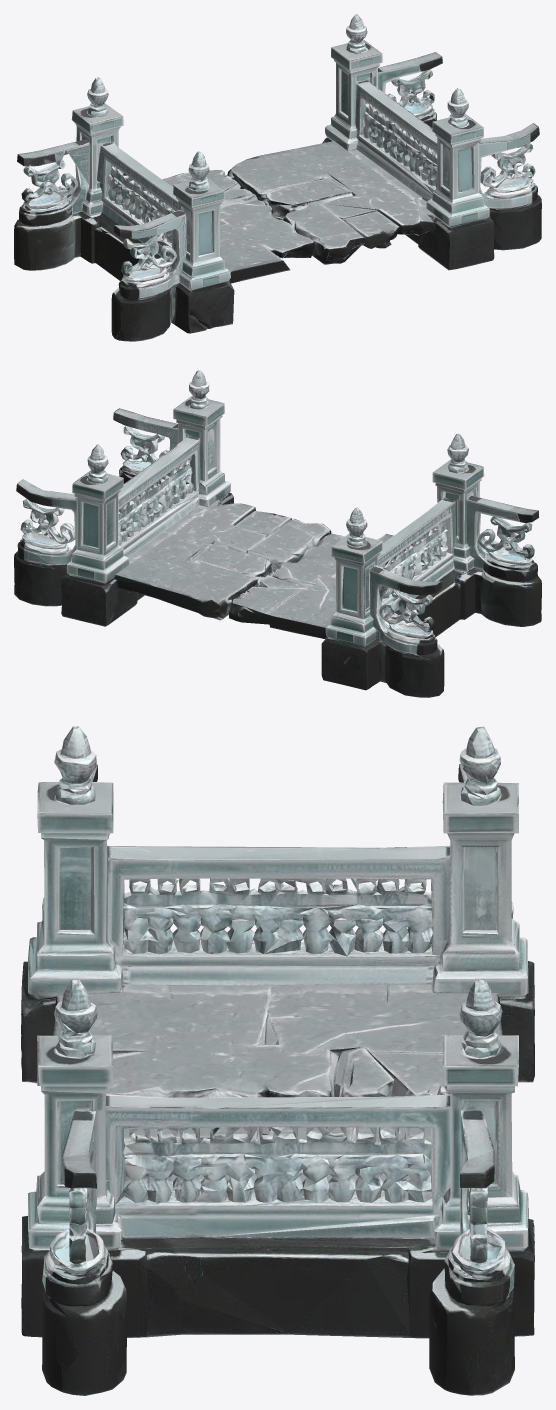
Rendered from duanqiao.glb.
The picture shows the model from 3 angles, top to bottom: view 1: azimuth 30°, elevation 25°; view 2: azimuth 150°, elevation 25°; view 3: azimuth 270°, elevation 25°; orthographic projection. The views are drawn at different scales.
Bounding box in the file's own units: 1.9 × 0.7184 × 0.9911.
Materials: 1 (1 with a texture image).
